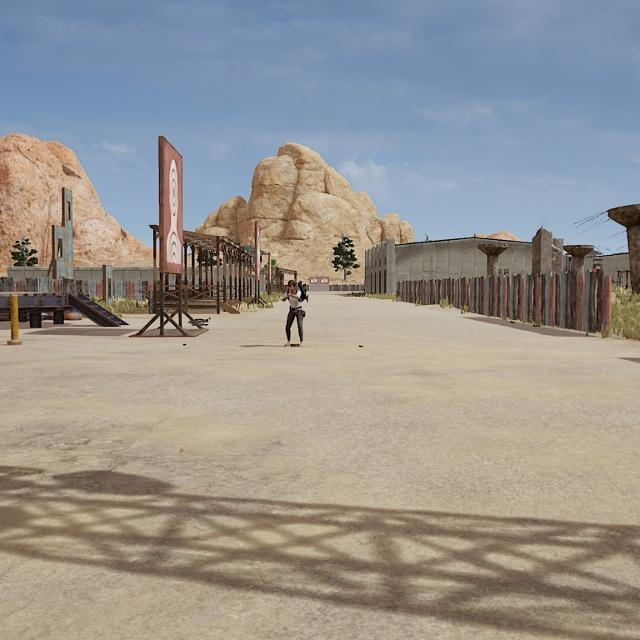head: (287, 280, 297, 293)
people: (281, 279, 307, 349)
